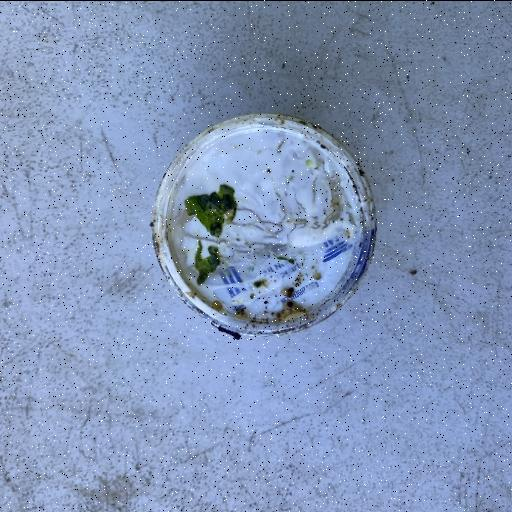Plastic: (148, 110, 378, 340)
